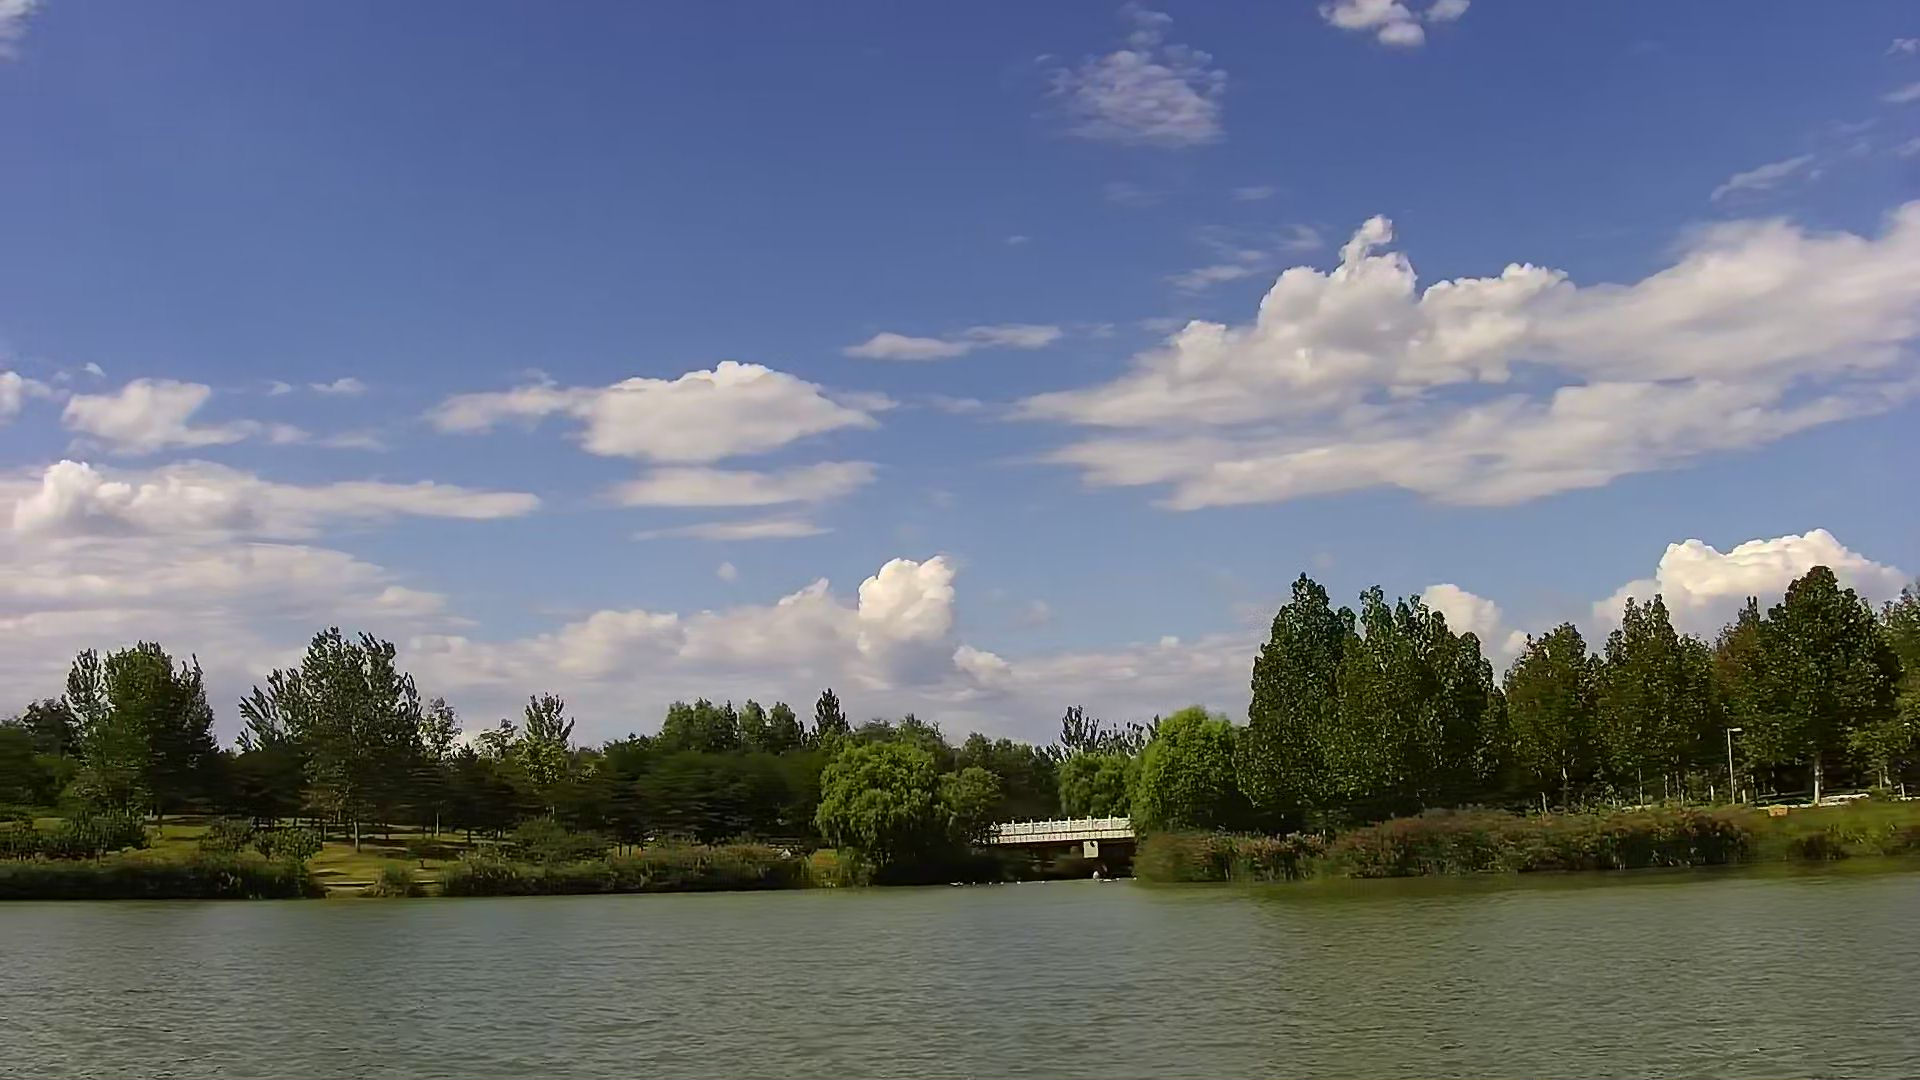bridge: (993, 819, 1131, 880)
